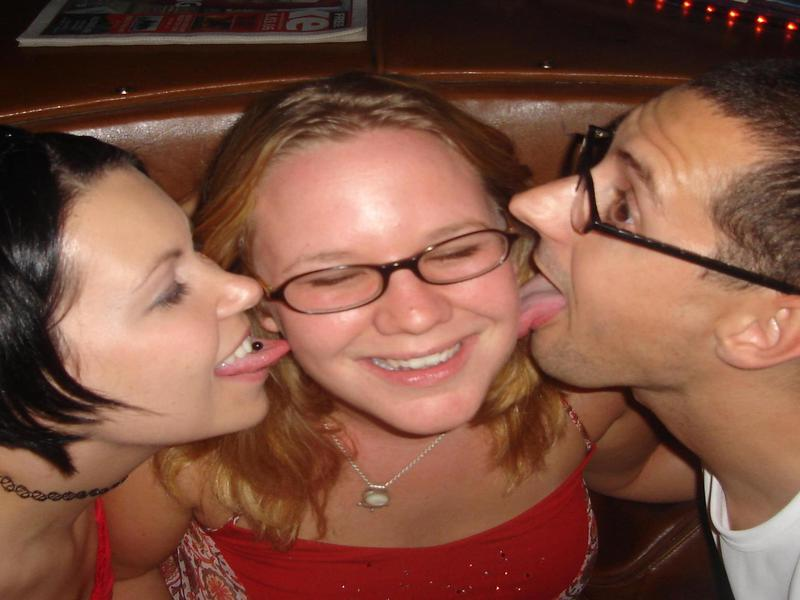person: (190, 76, 607, 600), (1, 108, 290, 592), (526, 66, 782, 600)
